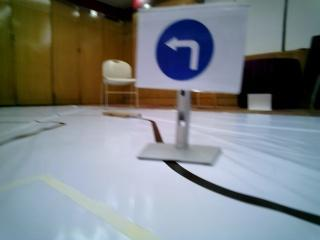left: (137, 9, 234, 88), (228, 140, 228, 140)
